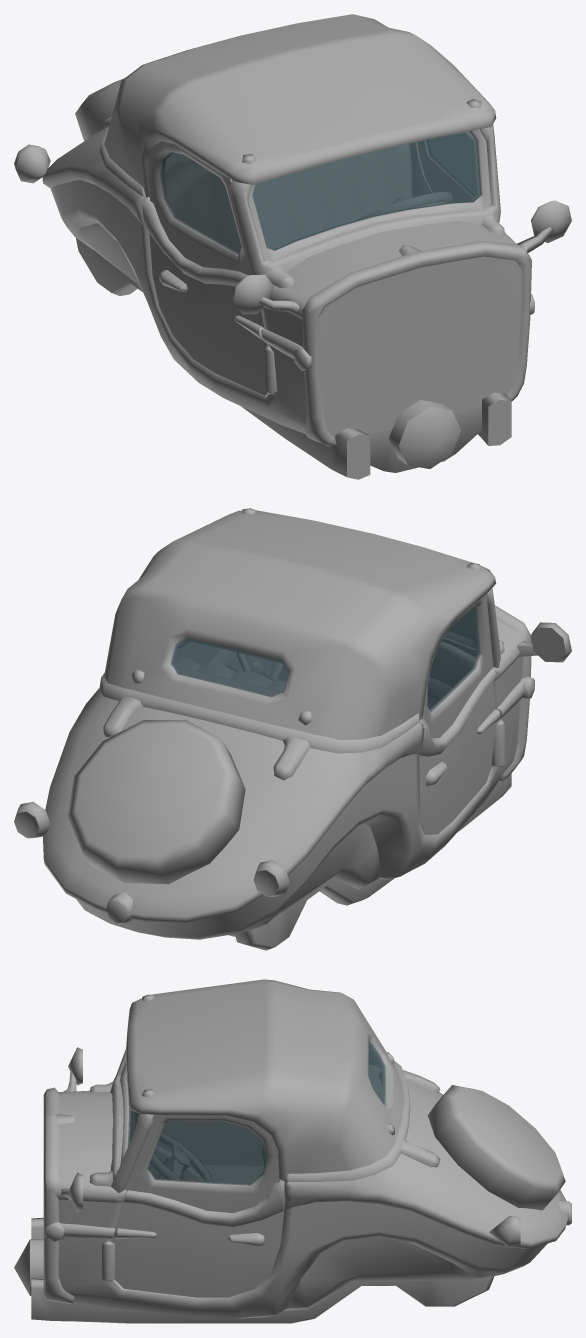
Rendered from Body_Alpha.fbx.
3 renders of one model, top to bottom at view 1: azimuth 30°, elevation 25°; view 2: azimuth 150°, elevation 25°; view 3: azimuth 270°, elevation 25°, orthographic. The views are drawn at different scales.
Parts seen in each view (by area): view 1: Alpha_Body, Alpha_Body_Roof, Alpha_Body_Window, Alpha_Body_Door_Right, Alpha_Body_Door_Right_Window, Alpha_Body_Door_Right_Top, Alpha_Body_Door_Left_Window, Alpha_Wheel_Spare, Alpha_Body_Door_Left_Top, Alpha_Body_SteerWheel, Alpha_Body_Door_Left; view 2: Alpha_Body, Alpha_Body_Roof, Alpha_Wheel_Spare, Alpha_Body_Door_Right, Alpha_Body_Roof_Window, Alpha_Body_Door_Right_Window, Alpha_Body_Door_Right_Top, Alpha_Body_Door_Left, Alpha_Body_Door_Left_Top; view 3: Alpha_Body, Alpha_Body_Roof, Alpha_Body_Door_Left, Alpha_Wheel_Spare, Alpha_Body_Door_Left_Window, Alpha_Body_Door_Left_Top, Alpha_Body_Door_Right, Alpha_Body_SteerWheel, Alpha_Body_Roof_Window.
Boxes of the visible parts, bbox=[...] form: Alpha_Body: bbox=[14, 117, 571, 479]; Alpha_Body_Roof: bbox=[104, 14, 496, 197]; Alpha_Body_Window: bbox=[252, 131, 481, 250]; Alpha_Body_Door_Right: bbox=[142, 197, 268, 395]; Alpha_Body_Door_Right_Window: bbox=[160, 152, 241, 254]; Alpha_Body_Door_Right_Top: bbox=[148, 141, 253, 275]; Alpha_Body_Door_Left_Window: bbox=[427, 133, 476, 194]; Alpha_Wheel_Spare: bbox=[75, 78, 124, 141]; Alpha_Body_Door_Left_Top: bbox=[417, 140, 477, 202]; Alpha_Body_SteerWheel: bbox=[358, 192, 453, 219]; Alpha_Body_Door_Left: bbox=[409, 142, 432, 197]; Alpha_Body: bbox=[14, 588, 571, 950]; Alpha_Body_Roof: bbox=[104, 508, 496, 739]; Alpha_Wheel_Spare: bbox=[67, 720, 245, 884]; Alpha_Body_Door_Right: bbox=[419, 668, 501, 834]; Alpha_Body_Roof_Window: bbox=[170, 638, 289, 697]; Alpha_Body_Door_Right_Window: bbox=[427, 606, 480, 712]; Alpha_Body_Door_Right_Top: bbox=[420, 593, 493, 738]; Alpha_Body_Door_Left: bbox=[208, 649, 278, 680]; Alpha_Body_Door_Left_Top: bbox=[175, 642, 221, 664]; Alpha_Body: bbox=[14, 1047, 571, 1323]; Alpha_Body_Roof: bbox=[125, 979, 404, 1181]; Alpha_Body_Door_Left: bbox=[112, 1179, 284, 1297]; Alpha_Wheel_Spare: bbox=[427, 1085, 565, 1210]; Alpha_Body_Door_Left_Window: bbox=[147, 1121, 266, 1185]; Alpha_Body_Door_Left_Top: bbox=[124, 1114, 279, 1213]; Alpha_Body_Door_Right: bbox=[137, 1113, 263, 1178]; Alpha_Body_SteerWheel: bbox=[150, 1132, 212, 1181]; Alpha_Body_Roof_Window: bbox=[368, 1041, 385, 1104].
Bounding box in the file's own units: 184 × 167 × 304.
